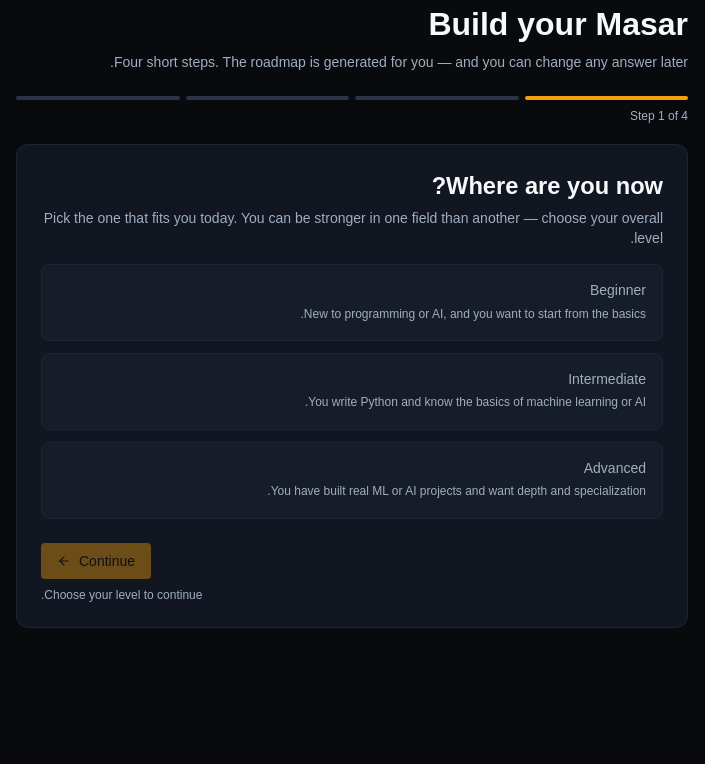
it: step 2 — what are you interested in? › lists every field the backend serves — including one the frontend has never heard of
Click the radio button labelled "Intermediate" at (607, 379), box top-left (41, 353), bottom-right (663, 430)
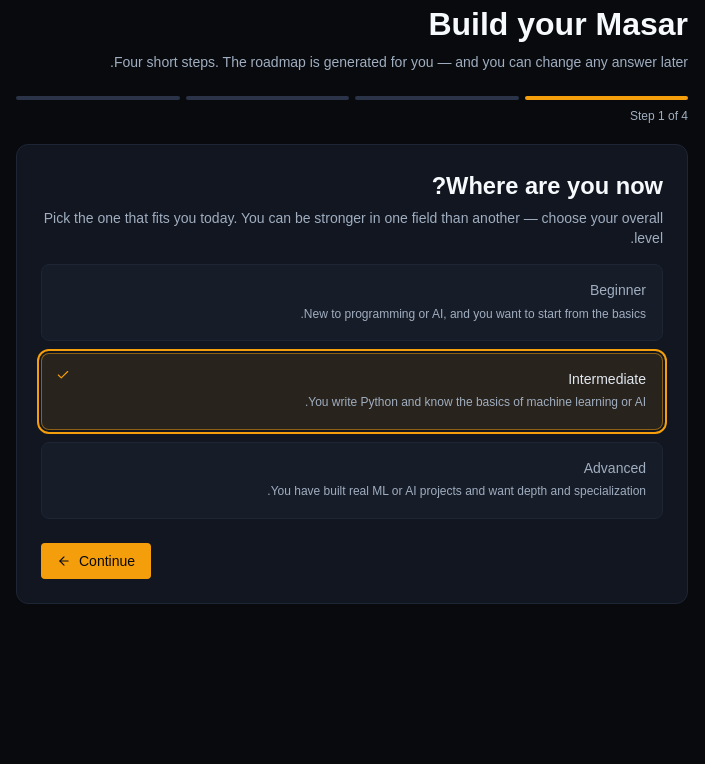
Click the button "Continue" at (96, 561), box top-left (41, 543), bottom-right (151, 579)
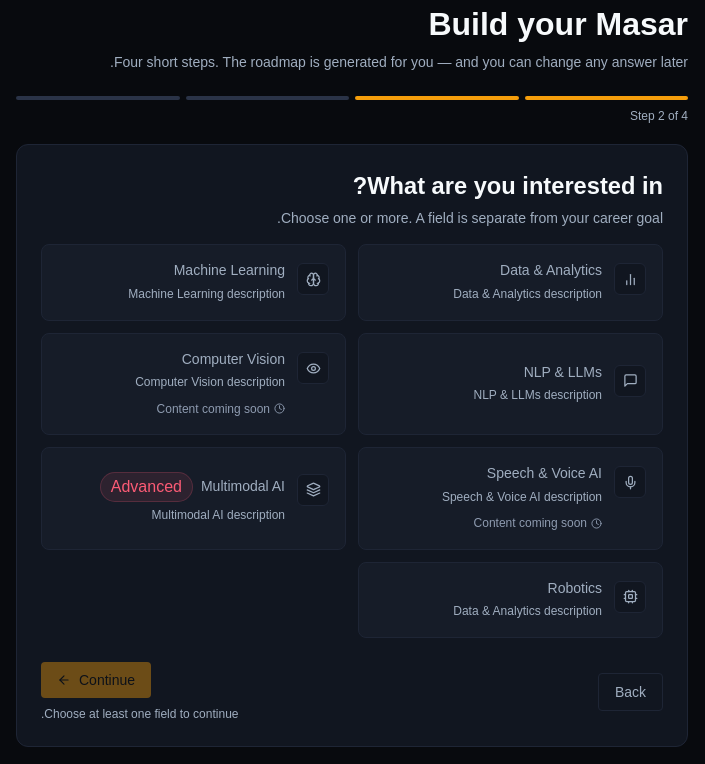
Result: the number of checkboxes is 7
Result: the checkbox labelled "Robotics Data & Analytics description" is shown at top-left (358, 562), bottom-right (663, 638)
